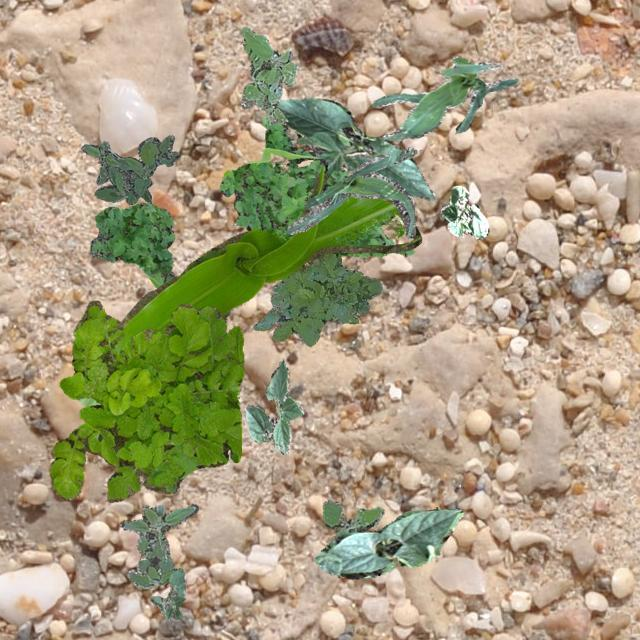crop: (76, 166, 420, 406), (276, 96, 434, 200), (370, 54, 518, 140), (282, 146, 416, 238), (314, 506, 462, 578), (244, 359, 302, 454), (439, 185, 488, 238), (150, 568, 184, 620)
weed: (49, 300, 242, 500), (218, 114, 412, 256), (252, 252, 382, 346), (88, 202, 175, 286), (80, 134, 180, 204), (120, 502, 198, 588), (240, 26, 298, 124), (322, 498, 382, 542)
